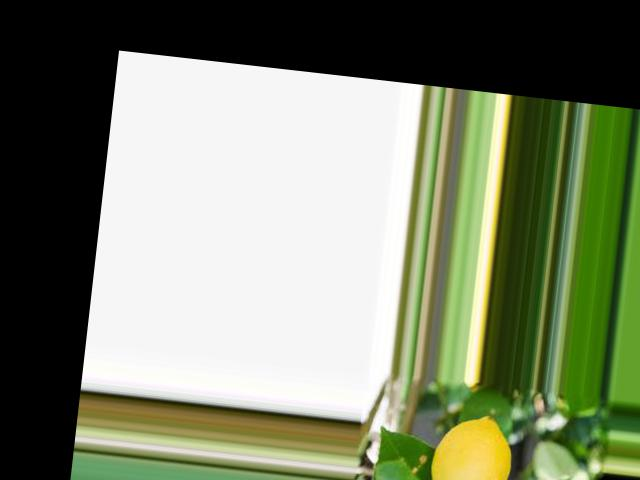lemon: (418, 400, 524, 480)
